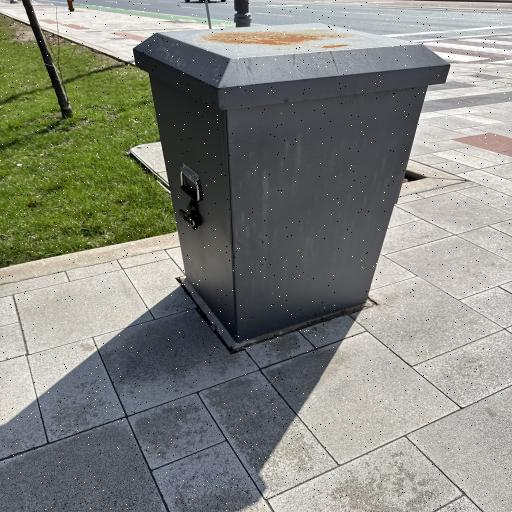Electrical Box: (134, 21, 452, 343)
